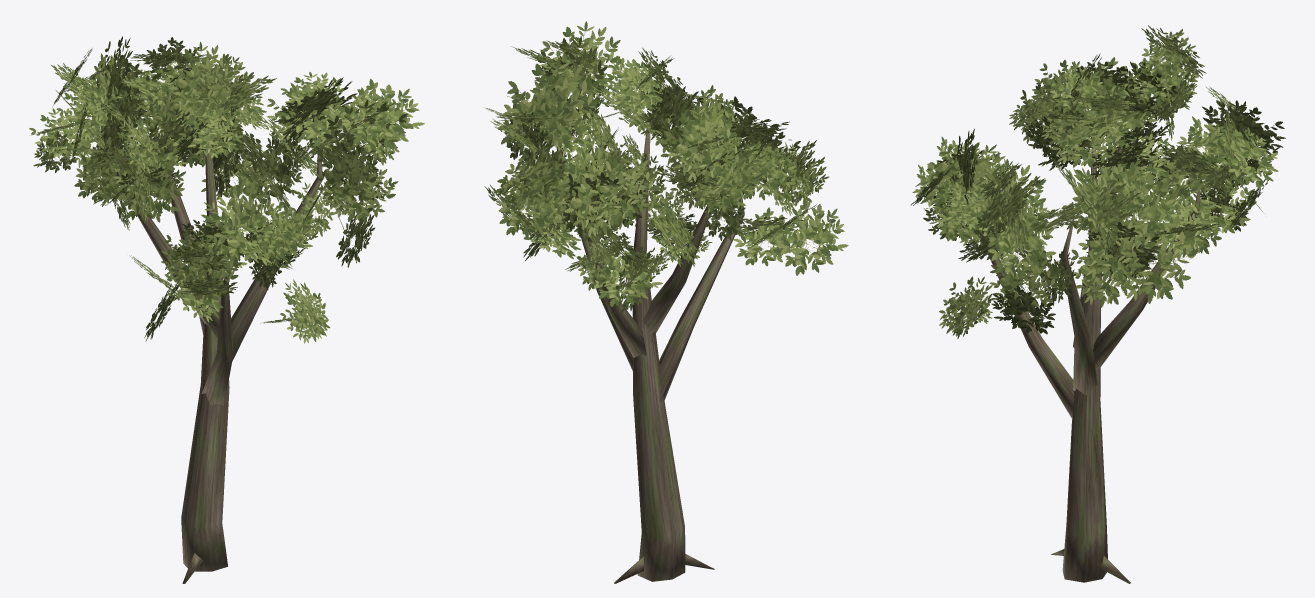
File: tree-oak-1_lod1.glb
3 views of the same model, side by side, from view 1: azimuth 30°, elevation 25°; view 2: azimuth 150°, elevation 25°; view 3: azimuth 270°, elevation 25° (orthographic).
Visible parts, largest first — view 1: Broadleaf sprigs, Trunk and branches; view 2: Broadleaf sprigs, Trunk and branches; view 3: Broadleaf sprigs, Trunk and branches.
Boxes of the visible parts, x1,y1,x2,y2 form: Broadleaf sprigs: (29, 36, 424, 343); Trunk and branches: (116, 136, 322, 583); Broadleaf sprigs: (484, 21, 848, 313); Trunk and branches: (556, 124, 744, 583); Broadleaf sprigs: (910, 25, 1285, 338); Trunk and branches: (976, 114, 1200, 583).
Bounding box in the file's own units: 4.57 × 7 × 5.
Materials: 2 (2 with a texture image).
